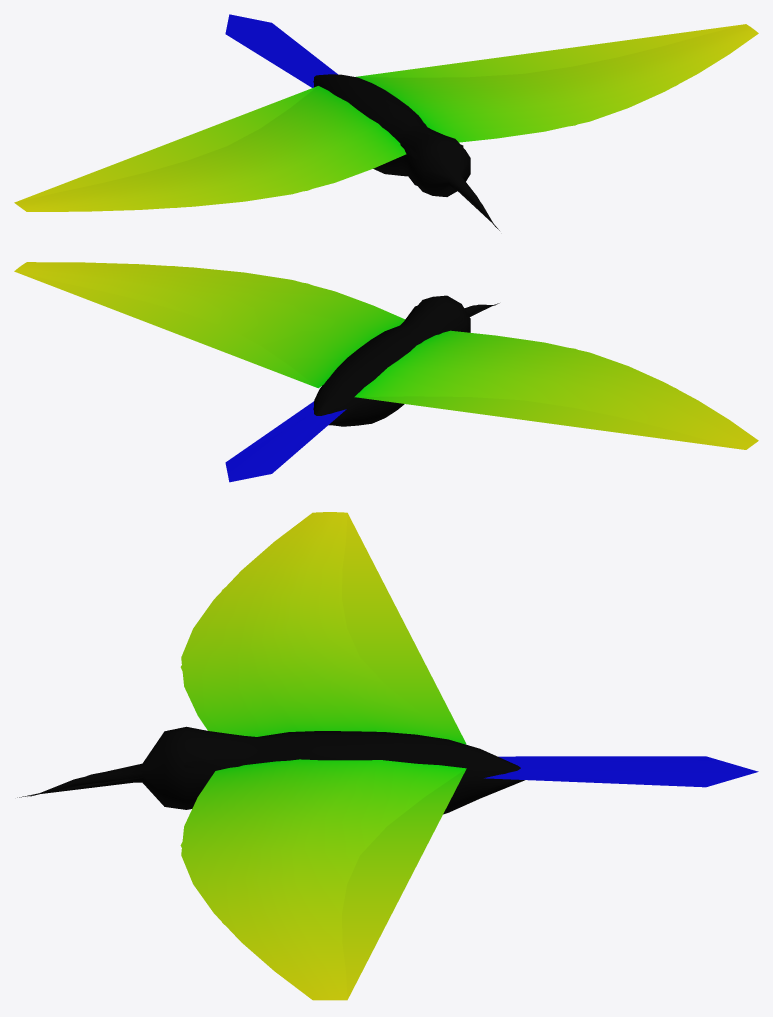
Rendered from beeeater.glb.
3 views of the same model, one above another, from view 1: azimuth 30°, elevation 25°; view 2: azimuth 150°, elevation 25°; view 3: azimuth 270°, elevation 25° (orthographic). The views are drawn at different scales.
Visible parts, largest first — view 1: fly0, fly2, fly1; view 2: fly0, fly2, fly1; view 3: fly0, fly2, fly1.
Part boxes in pixels (left/top/right/bottom): fly0: left=14, top=24, right=758, bottom=223; fly2: left=15, top=24, right=744, bottom=230; fly1: left=17, top=14, right=676, bottom=227; fly0: left=14, top=262, right=758, bottom=472; fly2: left=15, top=271, right=749, bottom=463; fly1: left=92, top=266, right=756, bottom=482; fly0: left=37, top=512, right=702, bottom=1000; fly2: left=17, top=513, right=686, bottom=1000; fly1: left=28, top=556, right=758, bottom=1000.
Size of the model in its own units: 0.44 by 0.0394 by 0.2841.
